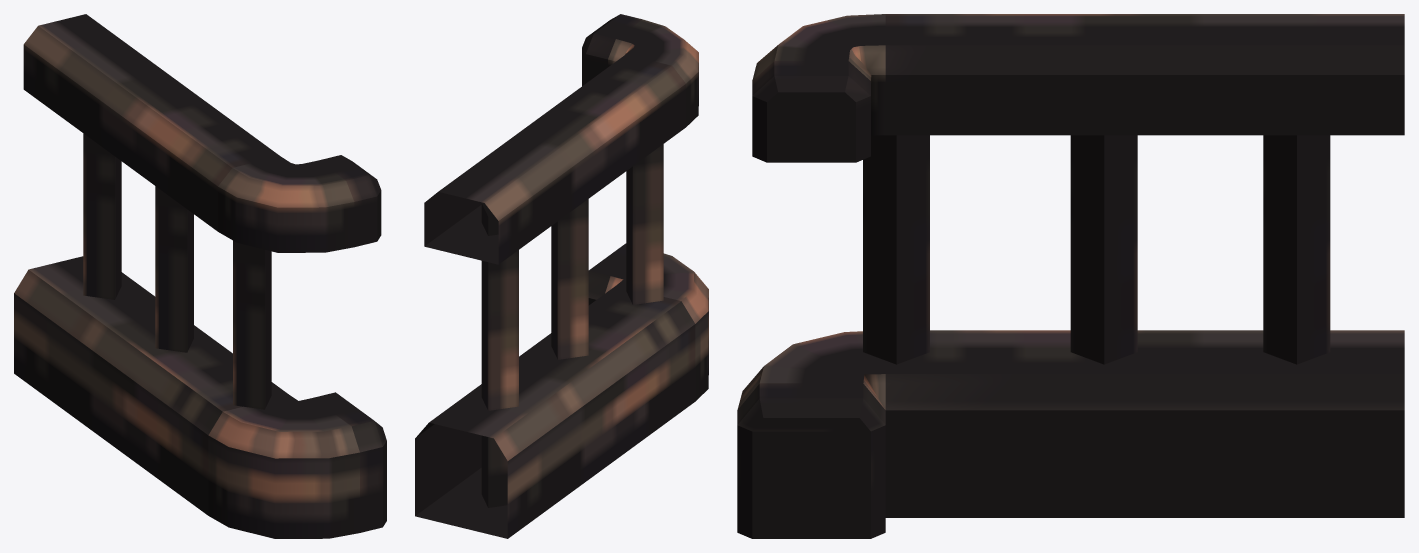
Rendered from EnvBdgMD_Factory_B_Fenece_A_End_100W.FBX.
3 renders of one model, left to right at view 1: azimuth 30°, elevation 25°; view 2: azimuth 150°, elevation 25°; view 3: azimuth 270°, elevation 25°, orthographic. The views are drawn at different scales.
Visible parts, largest first — view 1: EnvBdgMD_Factory_B_Fenece_A_End_100W; view 2: EnvBdgMD_Factory_B_Fenece_A_End_100W; view 3: EnvBdgMD_Factory_B_Fenece_A_End_100W.
Part boxes in pixels (left/top/right/bottom): EnvBdgMD_Factory_B_Fenece_A_End_100W: left=14, top=14, right=386, bottom=538; EnvBdgMD_Factory_B_Fenece_A_End_100W: left=415, top=14, right=708, bottom=538; EnvBdgMD_Factory_B_Fenece_A_End_100W: left=737, top=14, right=1404, bottom=538.
Bounding box in the file's own units: 33.44 × 85 × 113.
